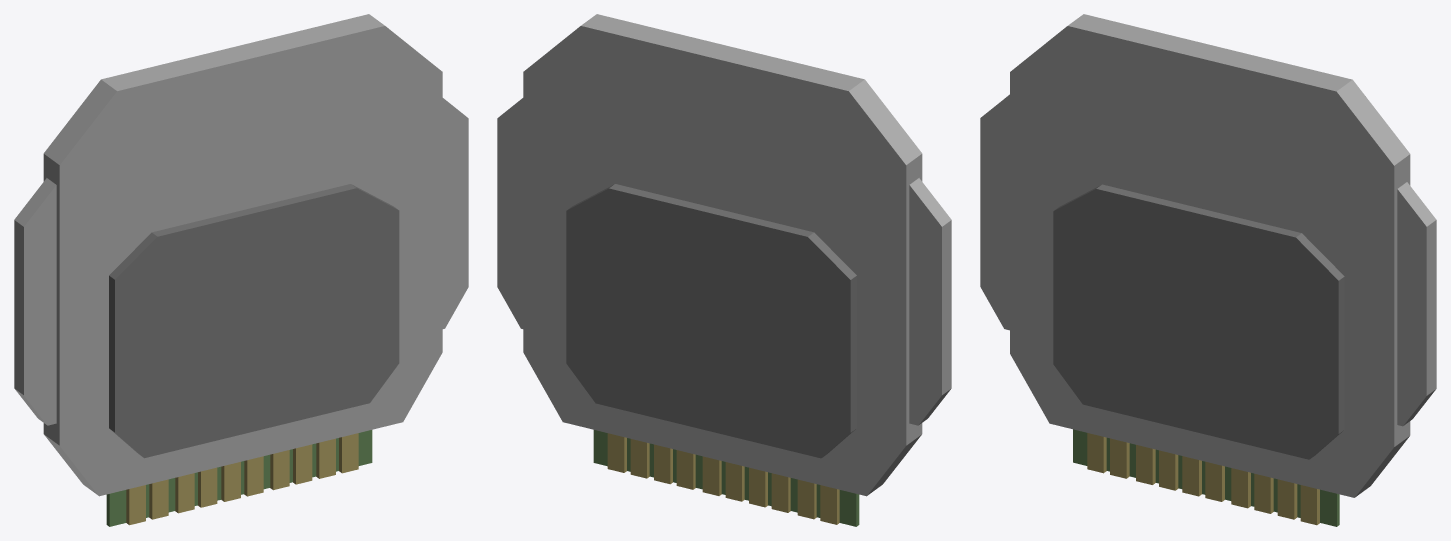
The model's file is CHIP.fbx.
3 views of the same model, side by side, from view 1: azimuth 30°, elevation 25°; view 2: azimuth 150°, elevation 25°; view 3: azimuth 330°, elevation 25° (orthographic).
Parts seen in each view (by area): view 1: pCube16; view 2: pCube16; view 3: pCube16.
Part boxes in pixels (x1,y1,x2,y2): pCube16: (14,14,468,526); pCube16: (497,14,951,526); pCube16: (980,14,1436,526).
Bounding box in the file's own units: 9.32 × 8.83 × 1.03.
